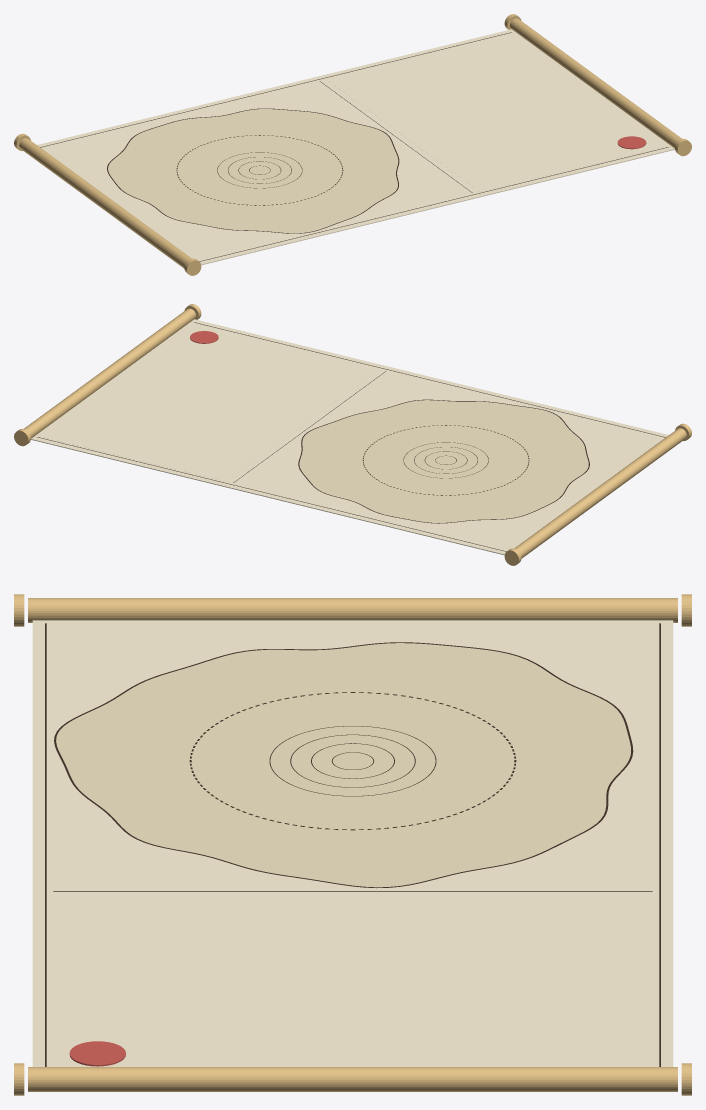
Rendered from oracle.glb.
3 views of the same model, one above another, from view 1: azimuth 30°, elevation 25°; view 2: azimuth 150°, elevation 25°; view 3: azimuth 270°, elevation 25° (orthographic). The views are drawn at different scales.
Visible parts, largest first — view 1: flat-land, recap-panel, flat-scroll, roller, roller.001, flat-ink, flat-rule.001, flat-rule; view 2: flat-land, recap-panel, flat-scroll, roller, roller.001, flat-ink, flat-rule, flat-rule.001; view 3: flat-land, recap-panel, flat-scroll, roller.001, roller, flat-ink, cyl, flat-rule, flat-rule.001.
Part boxes in pixels (left/top/right/bottom): flat-land: left=108, top=109, right=398, bottom=233; recap-panel: left=326, top=34, right=663, bottom=191; flat-scroll: left=37, top=29, right=674, bottom=265; roller: left=19, top=138, right=191, bottom=268; roller.001: left=510, top=18, right=681, bottom=148; flat-ink: left=107, top=108, right=399, bottom=233; flat-rule.001: left=40, top=32, right=511, bottom=147; flat-rule: left=199, top=147, right=668, bottom=261; flat-land: left=299, top=400, right=588, bottom=522; recap-panel: left=42, top=324, right=379, bottom=481; flat-scroll: left=31, top=319, right=668, bottom=555; roller: left=514, top=428, right=686, bottom=558; roller.001: left=24, top=308, right=195, bottom=438; flat-ink: left=298, top=399, right=589, bottom=523; flat-rule: left=194, top=322, right=665, bottom=437; flat-rule.001: left=37, top=437, right=506, bottom=551; flat-land: left=56, top=643, right=630, bottom=887; recap-panel: left=51, top=898, right=654, bottom=1066; flat-scroll: left=32, top=620, right=673, bottom=1066; roller.001: left=28, top=1067, right=677, bottom=1091; roller: left=28, top=598, right=677, bottom=622; flat-ink: left=54, top=642, right=633, bottom=888; cyl: left=69, top=1041, right=125, bottom=1066; flat-rule: left=45, top=623, right=46, bottom=1066; flat-rule.001: left=659, top=623, right=660, bottom=1066.
Bounding box in the file's own units: 131 × 3.74 × 77.69.
